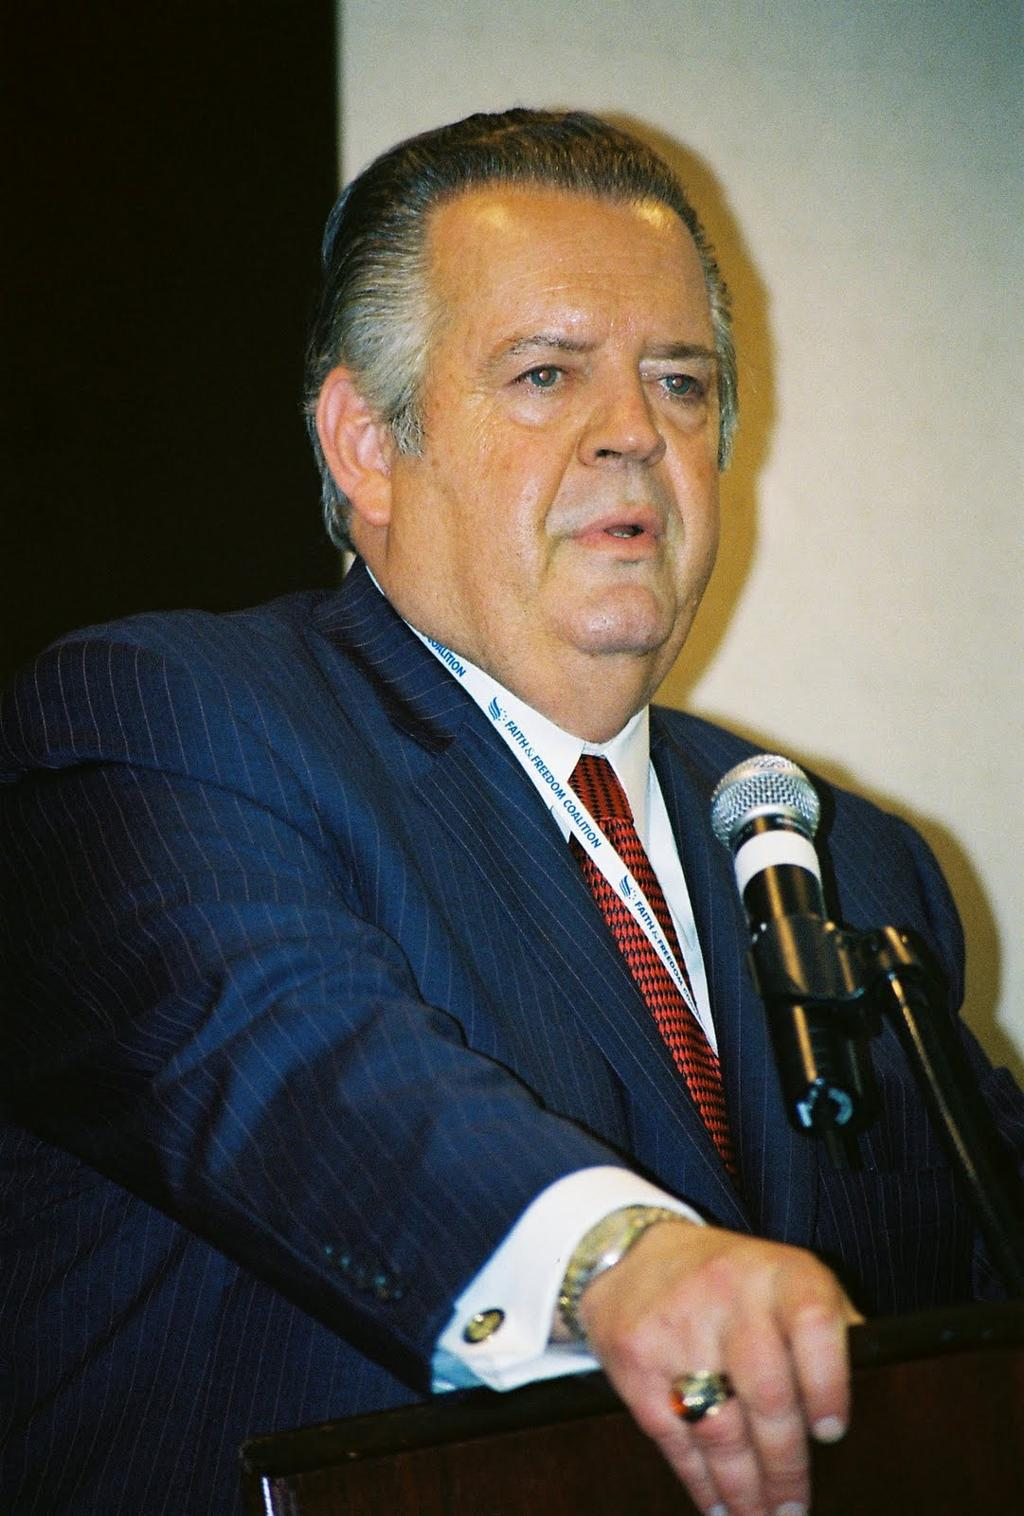face: (386, 202, 717, 655)
